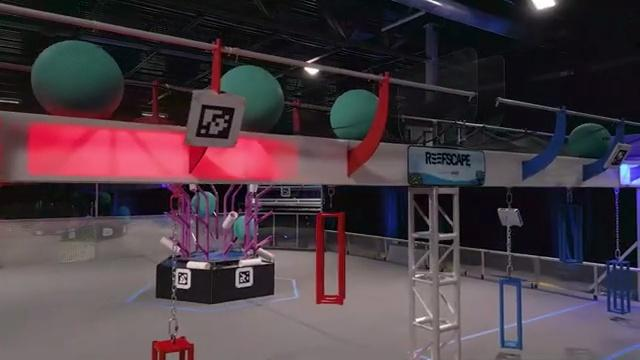ALGAE: (30, 41, 125, 127), (214, 65, 284, 136), (330, 89, 384, 144), (567, 122, 614, 165)
